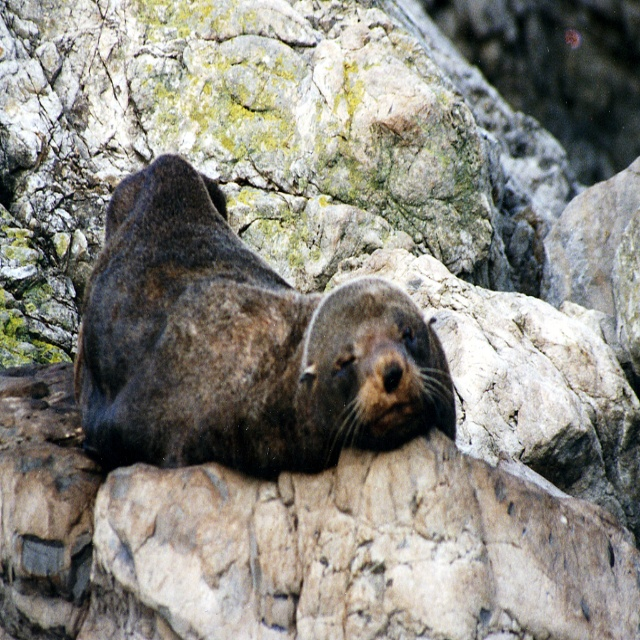Sea lion: (75, 153, 457, 482)
